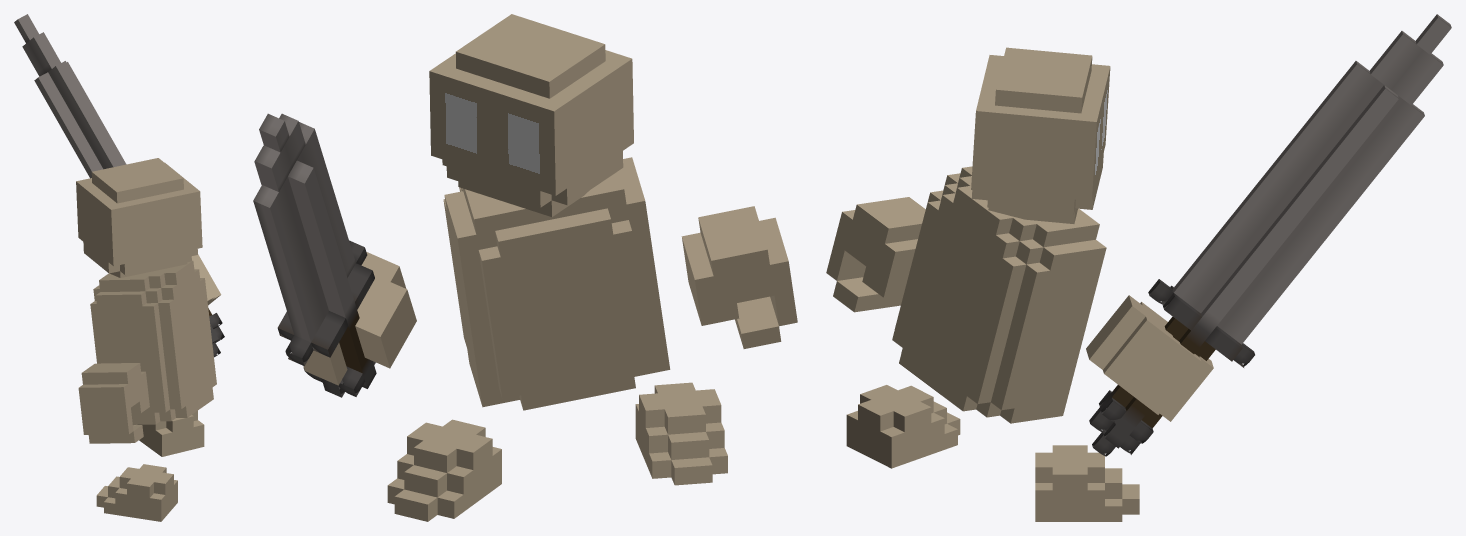
The model's file is Human.dae.
The picture shows the model from 3 angles, left to right: view 1: azimuth 30°, elevation 25°; view 2: azimuth 150°, elevation 25°; view 3: azimuth 270°, elevation 25°; orthographic projection. The views are drawn at different scales.
Visible parts, largest first — view 1: Body-local, Head-local, Sword-local, Left_Arm-local, Left_Foot-local, Right_Foot-local, Right_Arm-local; view 2: Body-local, Head-local, Sword-local, Left_Arm-local, Right_Foot-local, Left_Foot-local, Right_Arm-local; view 3: Body-local, Sword-local, Head-local, Left_Arm-local, Right_Arm-local, Left_Foot-local, Right_Foot-local.
Boxes of the visible parts, x1,y1,x2,y2 form: Body-local: (90, 260, 216, 424); Head-local: (76, 158, 202, 277); Sword-local: (14, 14, 224, 357); Left_Arm-local: (78, 363, 149, 443); Left_Foot-local: (96, 464, 177, 521); Right_Foot-local: (133, 410, 204, 456); Right_Arm-local: (191, 254, 221, 305); Body-local: (443, 157, 670, 410); Head-local: (429, 14, 633, 216); Sword-local: (253, 113, 376, 397); Left_Arm-local: (681, 206, 797, 348); Right_Foot-local: (387, 419, 501, 521); Left_Foot-local: (635, 382, 727, 485); Right_Arm-local: (303, 252, 416, 385); Body-local: (892, 166, 1106, 423); Sword-local: (1089, 14, 1451, 456); Head-local: (971, 47, 1110, 223); Left_Arm-local: (826, 197, 925, 312); Right_Arm-local: (1086, 295, 1213, 421); Left_Foot-local: (846, 385, 960, 468); Right_Foot-local: (1035, 445, 1139, 521).
Size of the model in its own units: 20.94 by 30.48 by 36.
